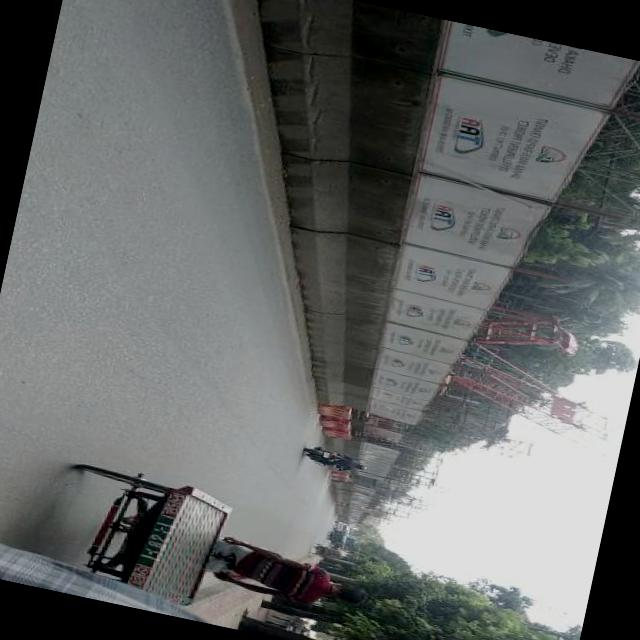car: (332, 520, 349, 534)
motorcycle: (298, 443, 371, 478), (306, 540, 344, 562), (323, 530, 348, 544)
